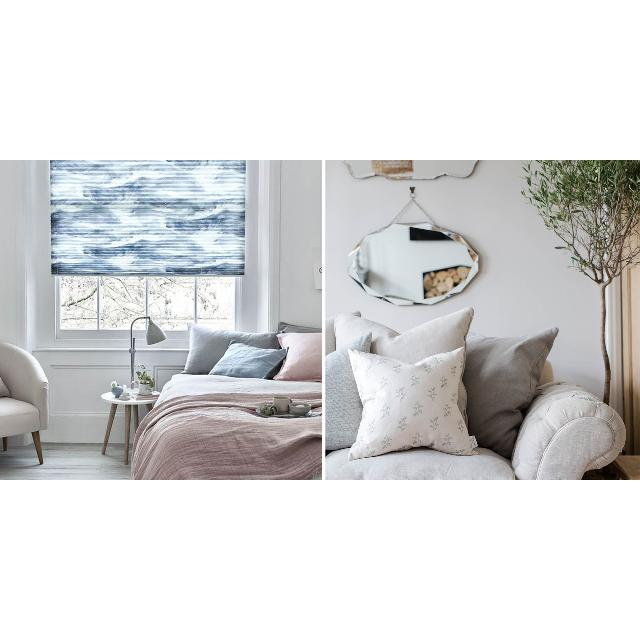pillow: (343, 341, 480, 459), (459, 324, 562, 462), (183, 324, 279, 371), (209, 342, 294, 381), (277, 331, 322, 379)
